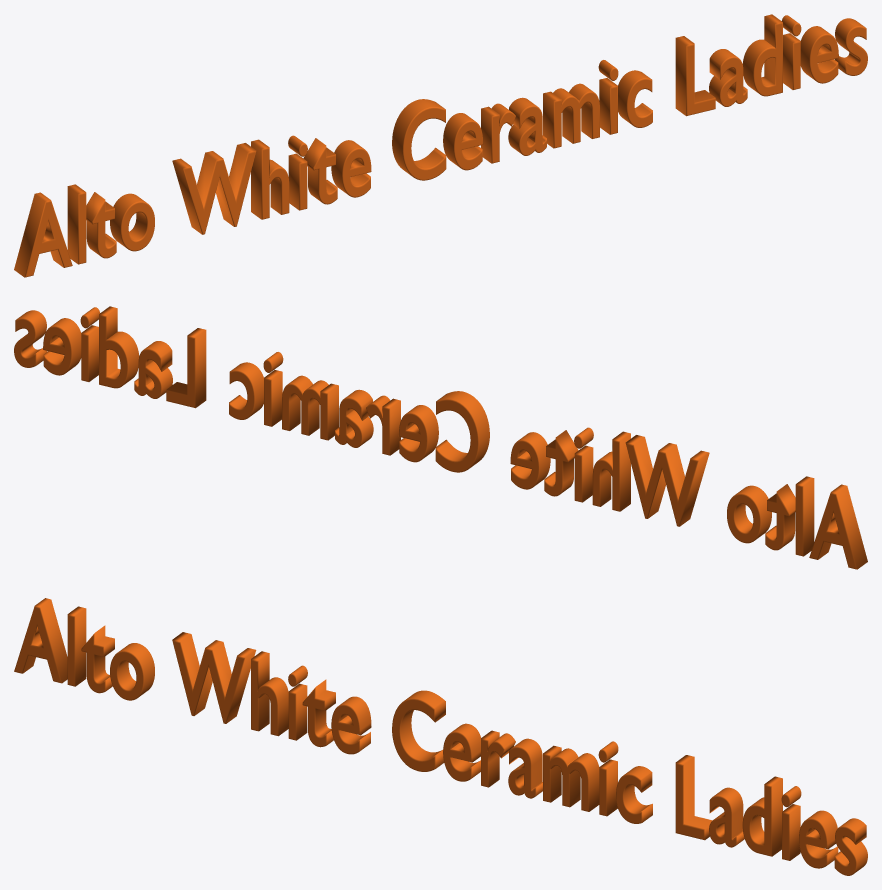
3 renders of one model, top to bottom at view 1: azimuth 30°, elevation 25°; view 2: azimuth 150°, elevation 25°; view 3: azimuth 330°, elevation 25°, orthographic.
Parts seen in each view (by area): view 1: Text; view 2: Text; view 3: Text.
Boxes of the visible parts, <box> form: Text: <box>14,14,867,277</box>; Text: <box>14,306,867,569</box>; Text: <box>14,598,867,875</box>.
Bounding box in the file's own units: 18.6 × 1.53 × 0.44.
